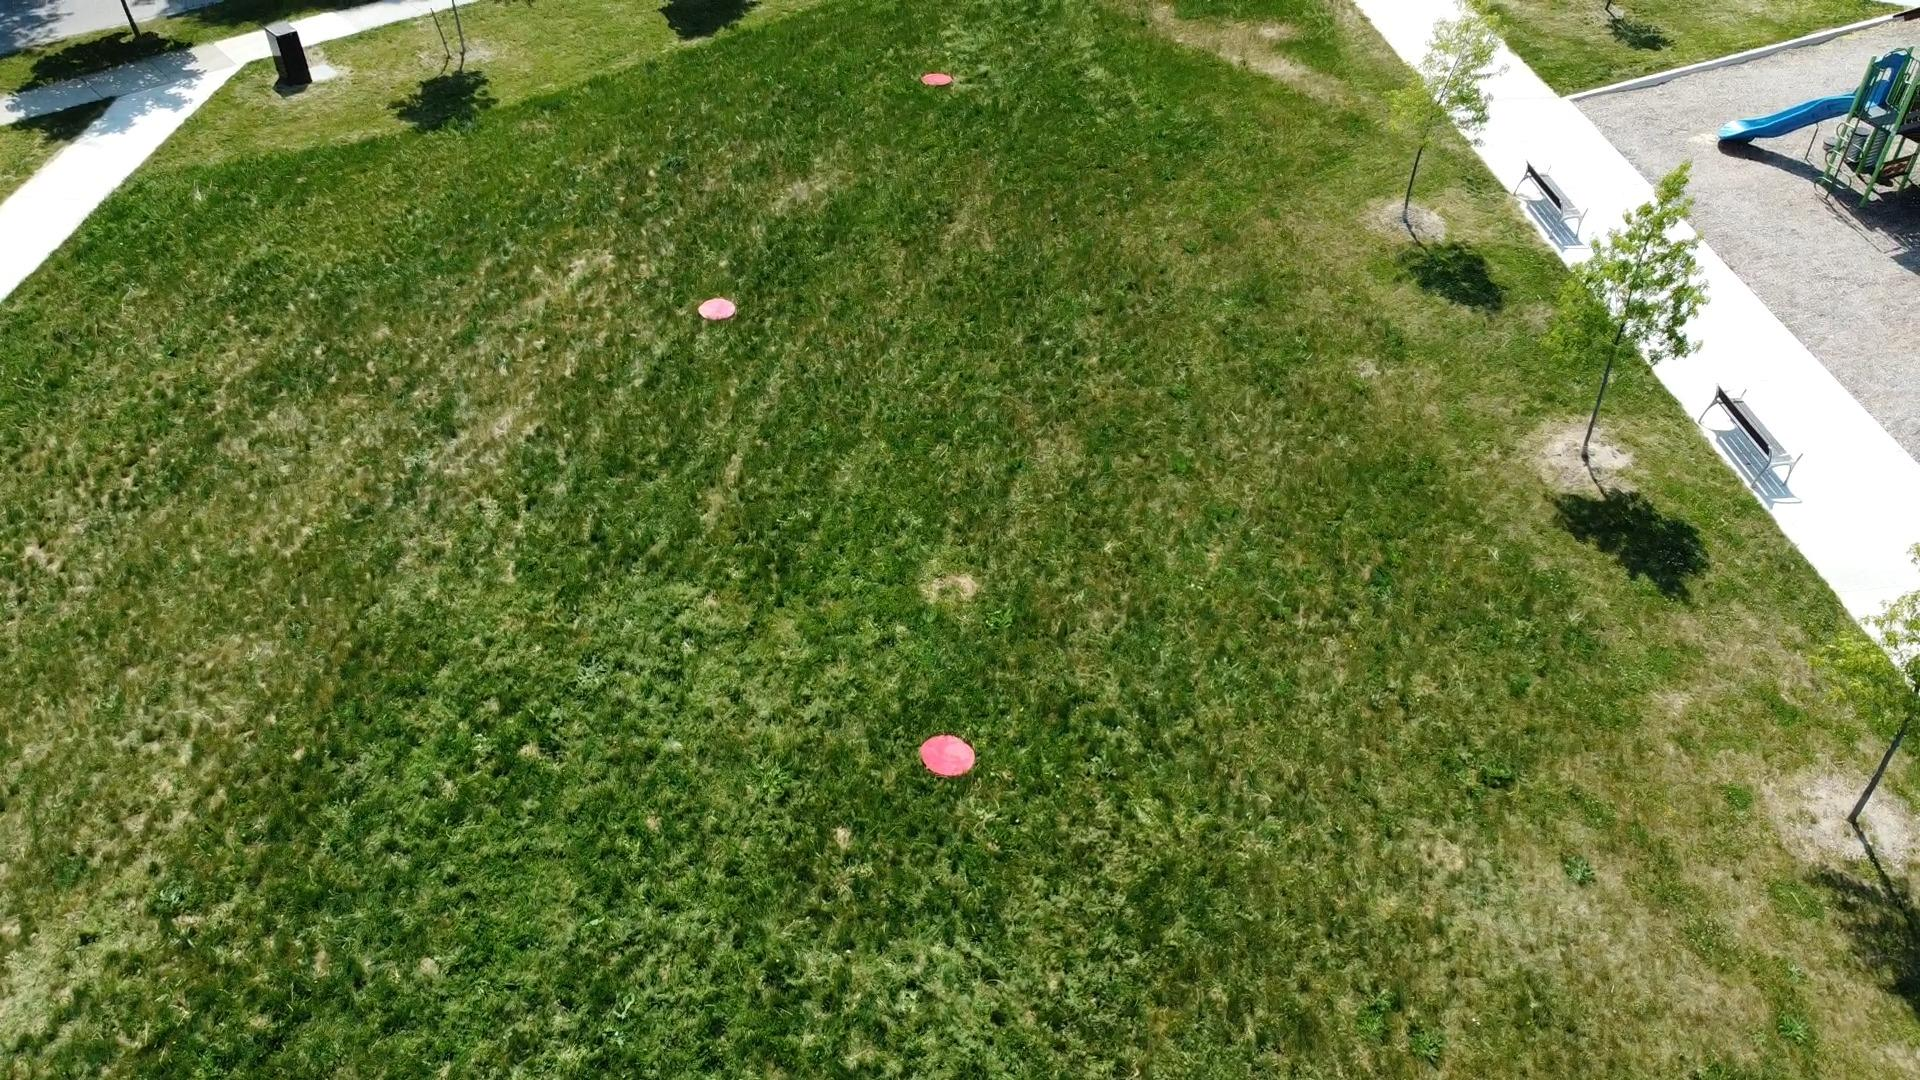Red: (918, 733, 978, 778), (696, 295, 737, 322), (920, 71, 953, 88)
